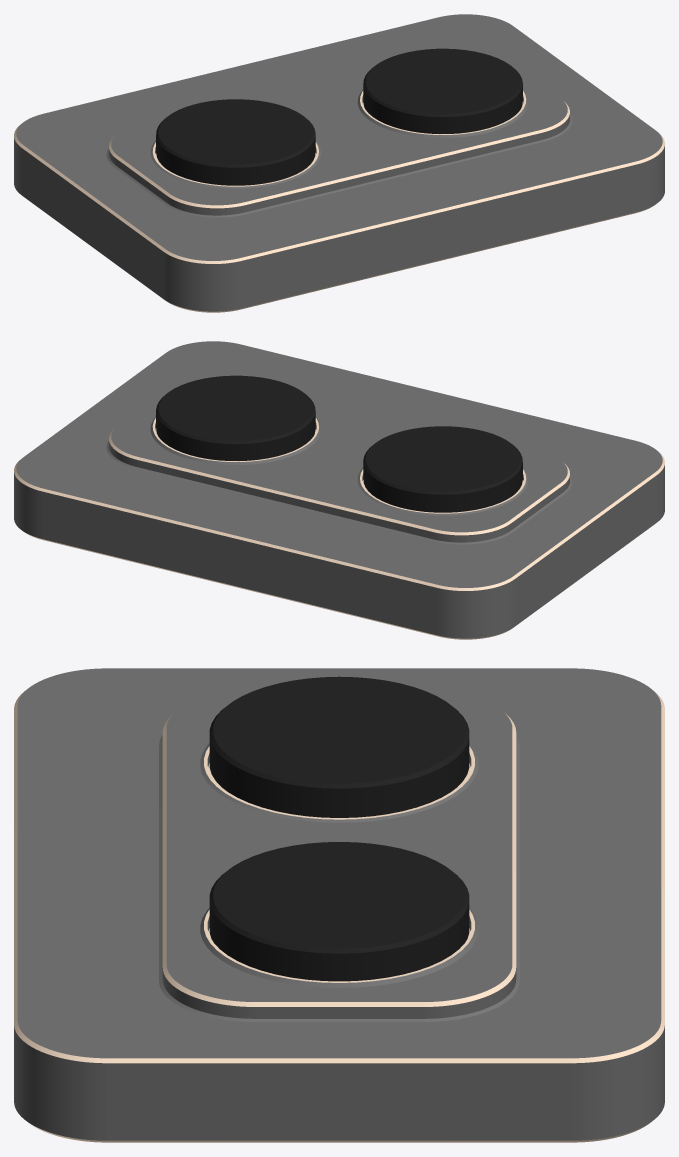
The model's file is buttonOnly.fbx.
3 renders of one model, top to bottom at view 1: azimuth 30°, elevation 25°; view 2: azimuth 150°, elevation 25°; view 3: azimuth 270°, elevation 25°, orthographic. The views are drawn at different scales.
Parts seen in each view (by area): view 1: Model, Group1; view 2: Model, Group1; view 3: Model, Group1.
Part boxes in pixels (x1,y1,x2,y2): Model: (14,14,664,312); Group1: (156,99,315,185); Model: (14,341,664,639); Group1: (363,426,522,512); Model: (14,668,664,1142); Group1: (209,676,469,817).
Size of the model in its own units: 500 by 80 by 350.
